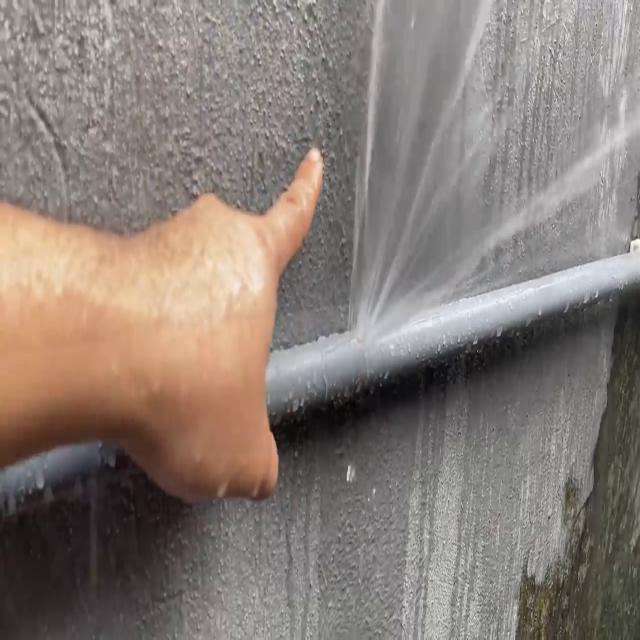leak: (345, 0, 640, 333)
